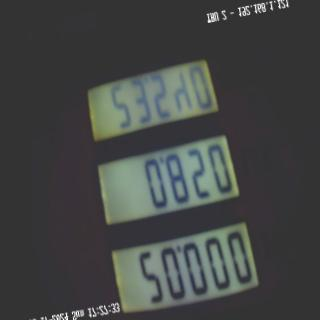screen: (67, 19, 269, 320)
